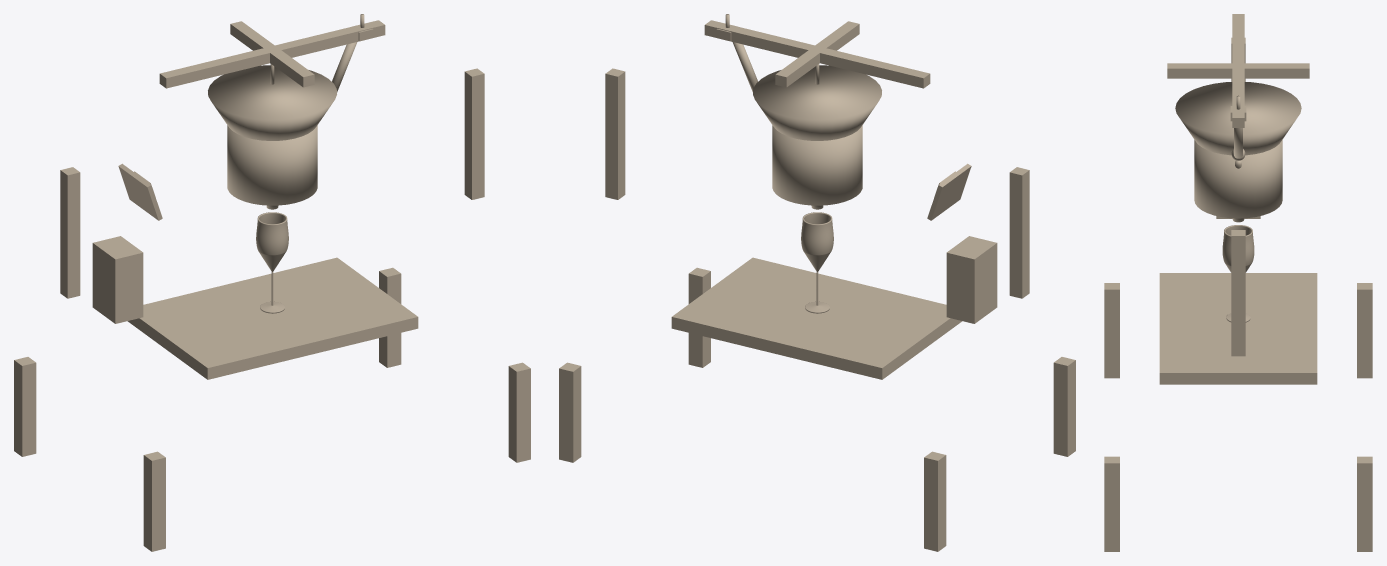
File: 3dcodebench_Wineglass_seed0_L6_Q0__qwen3.8-27b.glb
3 renders of one model, left to right at view 1: azimuth 30°, elevation 25°; view 2: azimuth 150°, elevation 25°; view 3: azimuth 270°, elevation 25°, orthographic. The views are drawn at different scales.
Visible parts, largest first — view 1: object; view 2: object; view 3: object.
Part boxes in pixels (left/top/right/bottom): object: left=14, top=14, right=530, bottom=551; object: left=559, top=14, right=1075, bottom=551; object: left=1104, top=14, right=1372, bottom=551.
Bounding box in the file's own units: 1.49 × 1.42 × 0.85.
